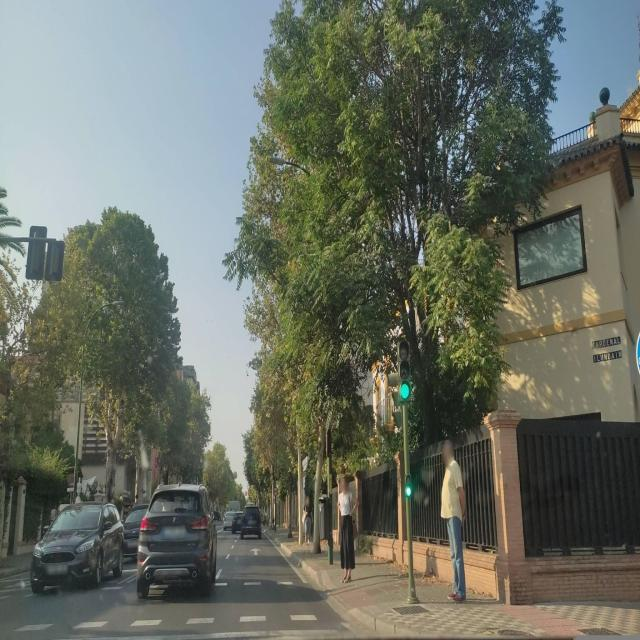car: (136, 481, 218, 600), (29, 500, 125, 596), (122, 502, 150, 561), (240, 504, 262, 540), (223, 510, 236, 532), (231, 513, 243, 535)
